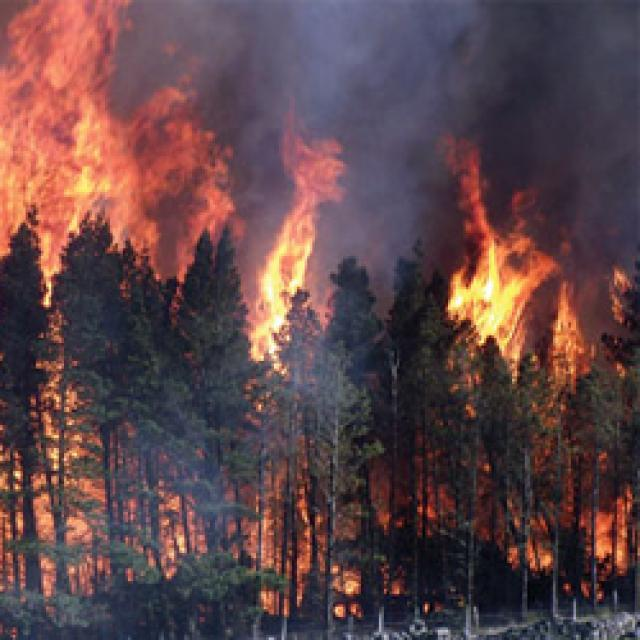Fire: (0, 0, 243, 320), (424, 131, 616, 416), (236, 108, 388, 422), (0, 416, 248, 596), (3, 276, 132, 500), (218, 473, 387, 618), (499, 488, 640, 638)
Smoke: (186, 0, 634, 253), (0, 0, 640, 163)
